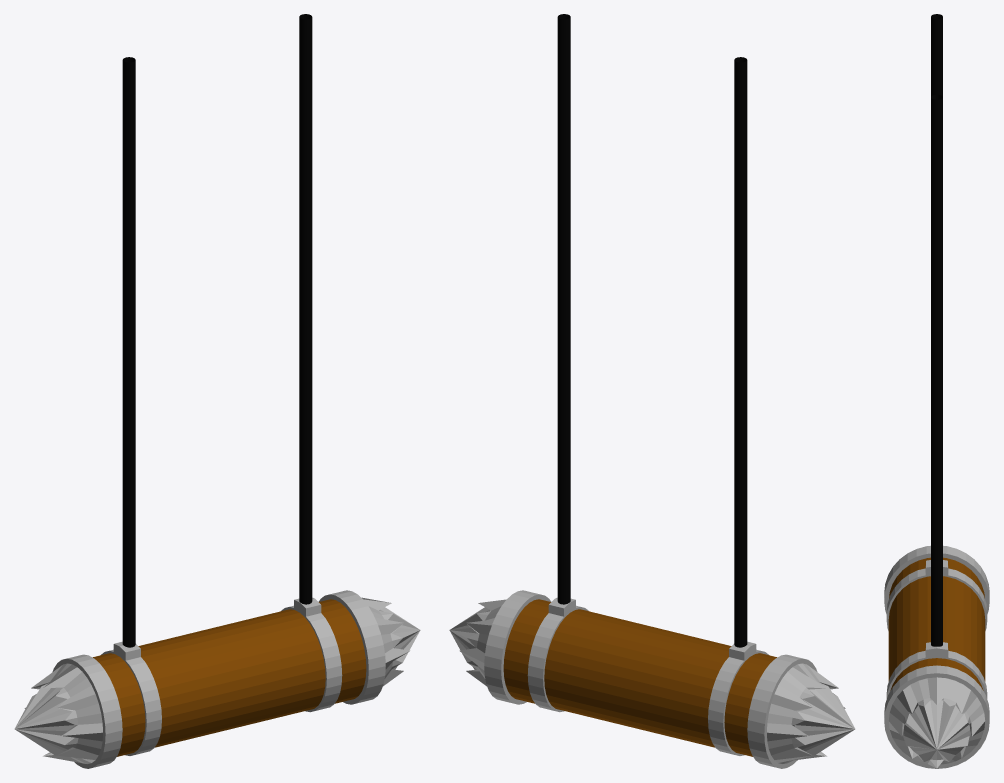
Rendered from TabungBerduri.fbx.
The picture shows the model from 3 angles, left to right: view 1: azimuth 30°, elevation 25°; view 2: azimuth 150°, elevation 25°; view 3: azimuth 270°, elevation 25°; orthographic projection. The views are drawn at different scales.
Visible parts, largest first — view 1: Cylinder.001, Cylinder, BezierCurve; view 2: Cylinder.001, Cylinder, BezierCurve; view 3: Cylinder, BezierCurve, Cylinder.001.
Boxes of the visible parts, left/top/right/bottom form: Cylinder.001: left=93, top=599, right=366, bottom=756; Cylinder: left=14, top=590, right=420, bottom=768; BezierCurve: left=122, top=14, right=312, bottom=647; Cylinder.001: left=503, top=599, right=776, bottom=756; Cylinder: left=449, top=590, right=855, bottom=768; BezierCurve: left=557, top=14, right=747, bottom=647; Cylinder: left=884, top=545, right=989, bottom=768; BezierCurve: left=931, top=14, right=942, bottom=646; Cylinder.001: left=888, top=557, right=985, bottom=690.
Size of the model in its own units: 290 by 472 by 69.78.
